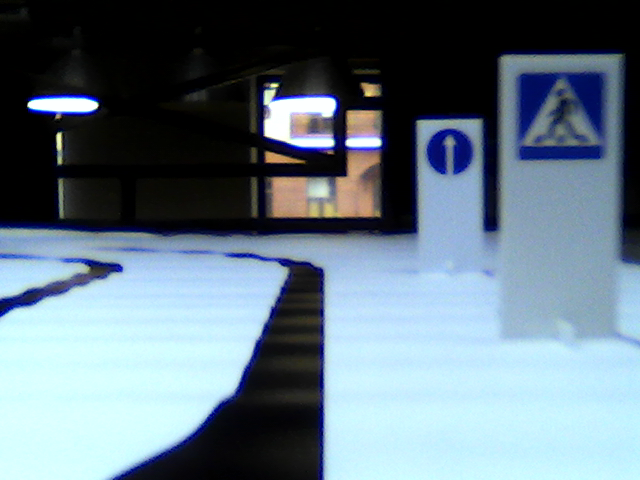forw: (425, 125, 477, 178)
pesh: (517, 71, 607, 162)
